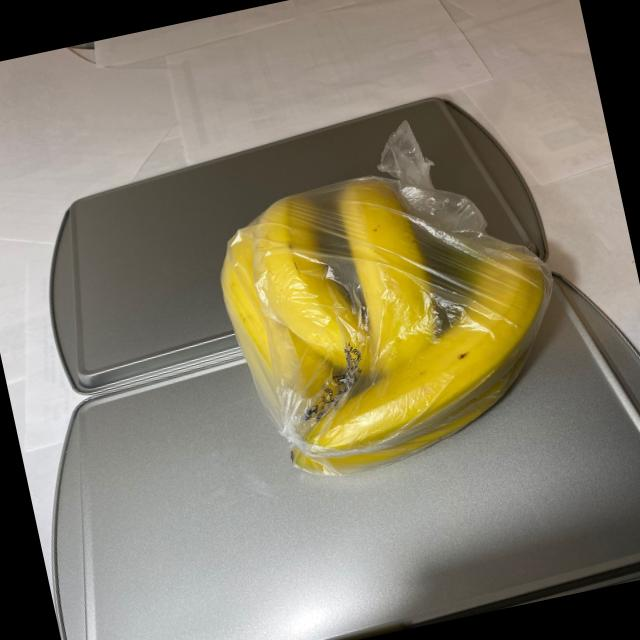banana: (202, 136, 586, 492)
